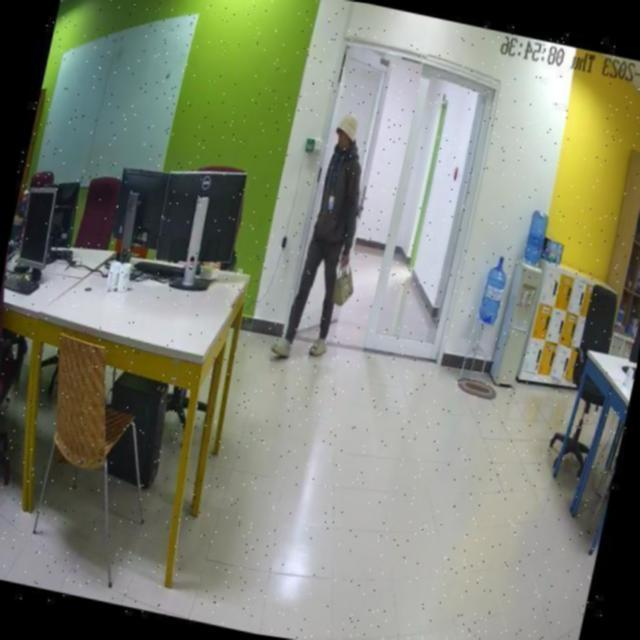person: (276, 110, 379, 371)
